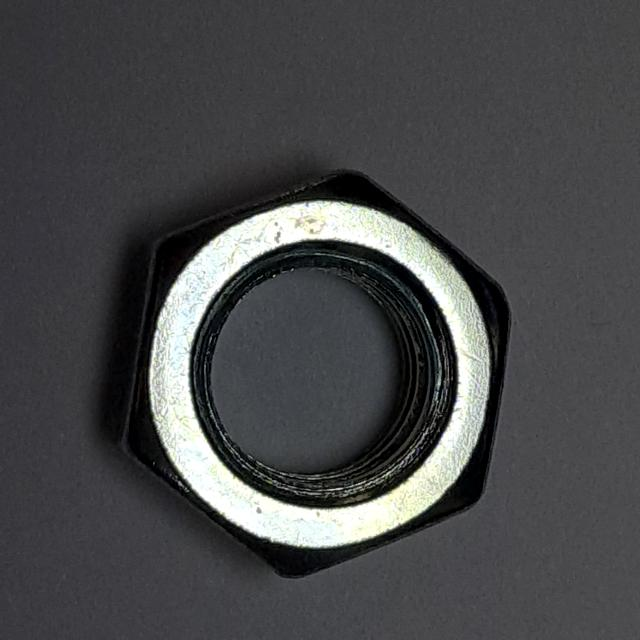Excellent: (102, 152, 524, 594)
